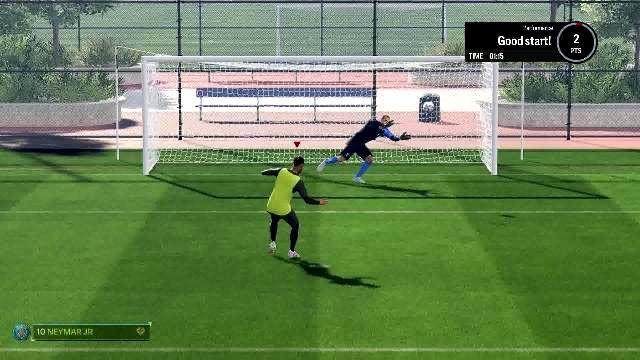bottom-left: (148, 118, 262, 174)
bottom-right: (374, 117, 488, 173)
center-down: (260, 120, 372, 178)
center-up: (260, 59, 376, 123)
football: (422, 99, 438, 114)
goalkeeper: (314, 118, 368, 182)
player: (264, 159, 320, 261)
top-left: (146, 61, 260, 117)
top-right: (376, 61, 490, 117)
